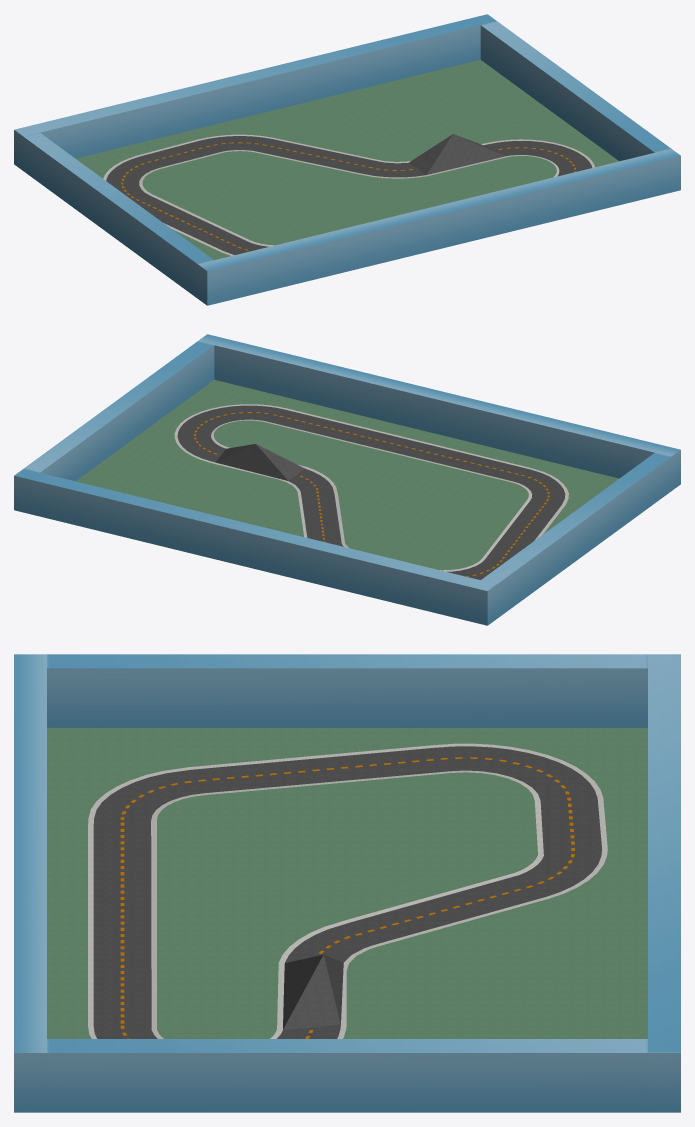
Rendered from Track3_and_Wall.dae.
3 views of the same model, one above another, from view 1: azimuth 30°, elevation 25°; view 2: azimuth 150°, elevation 25°; view 3: azimuth 270°, elevation 25° (orthographic). The views are drawn at different scales.
Visible parts, largest first — view 1: field, bottomWall, topWall, Track1, leftWall, rightWall, whiteLines, dottedLine; view 2: field, topWall, bottomWall, Track1, leftWall, rightWall, whiteLines, dottedLine; view 3: field, leftWall, rightWall, Track1, bottomWall, topWall, whiteLines, dottedLine.
Boxes of the visible parts, left/top/right/bottom form: field: left=76, top=60, right=618, bottom=259; bottomWall: left=197, top=148, right=680, bottom=305; topWall: left=14, top=14, right=496, bottom=170; Track1: left=106, top=134, right=592, bottom=254; leftWall: left=23, top=132, right=213, bottom=298; rightWall: left=480, top=21, right=670, bottom=161; whiteLines: left=103, top=134, right=594, bottom=255; dottedLine: left=121, top=142, right=576, bottom=250; field: left=76, top=380, right=618, bottom=570; topWall: left=14, top=468, right=497, bottom=625; bottomWall: left=198, top=334, right=680, bottom=490; Track1: left=177, top=405, right=565, bottom=579; leftWall: left=481, top=452, right=671, bottom=618; rightWall: left=24, top=341, right=214, bottom=481; whiteLines: left=174, top=404, right=568, bottom=571; dottedLine: left=194, top=412, right=549, bottom=576; field: left=47, top=728, right=647, bottom=1038; leftWall: left=47, top=654, right=647, bottom=727; rightWall: left=47, top=1039, right=647, bottom=1112; Track1: left=93, top=746, right=602, bottom=1038; bottomWall: left=14, top=654, right=46, bottom=1112; topWall: left=648, top=654, right=680, bottom=1112; whiteLines: left=88, top=743, right=607, bottom=1038; dottedLine: left=120, top=757, right=574, bottom=1038.
Bounding box in the file's own units: 7.17 × 5.07 × 0.5.
